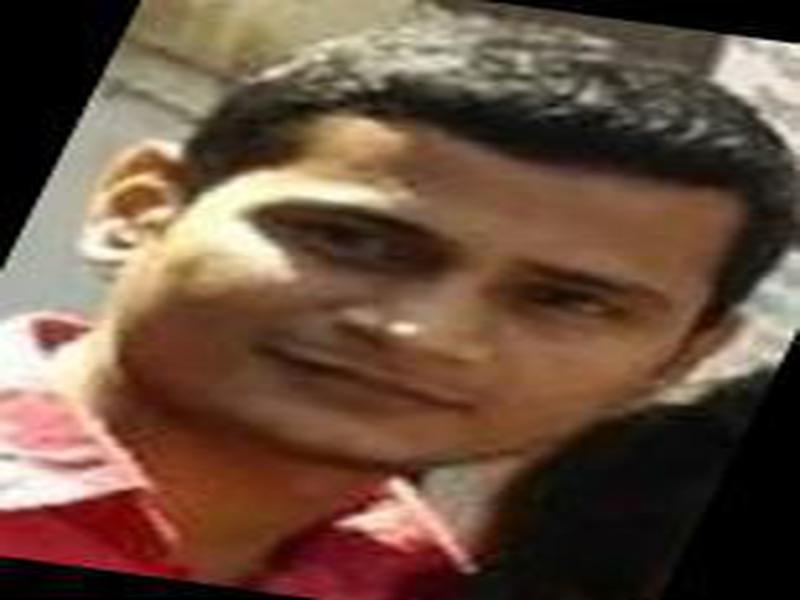without_mask: (121, 110, 704, 468)
